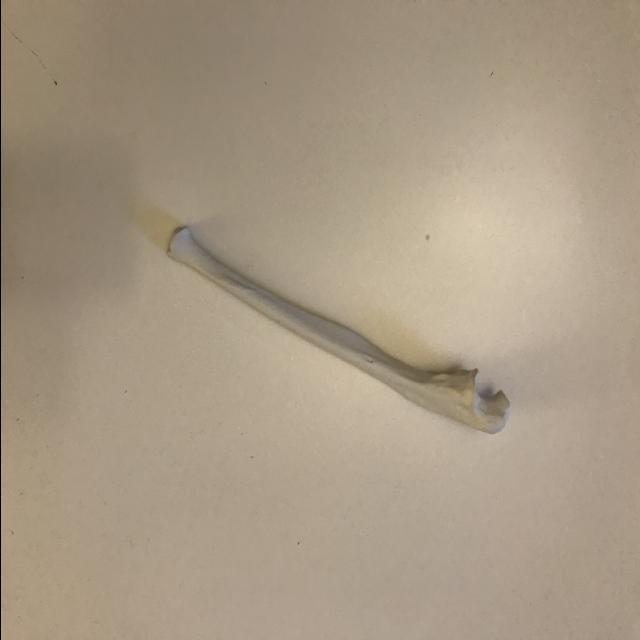bone: (160, 220, 518, 434)
